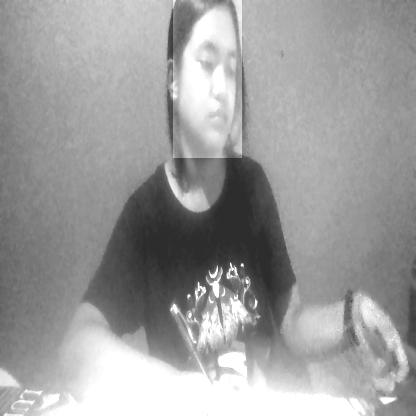Distracted: (173, 0, 242, 158)
